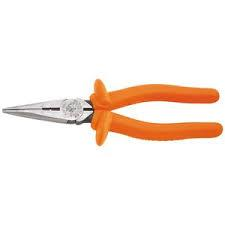pliers: (0, 77, 222, 145)
